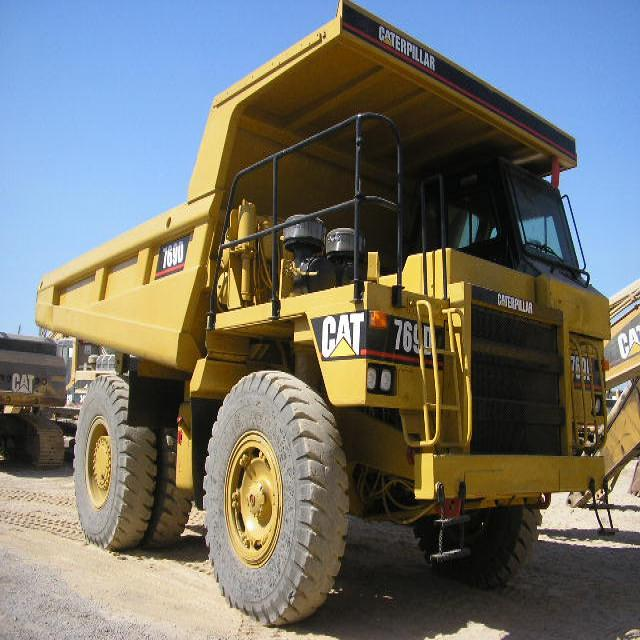dump_truck: (23, 4, 610, 616)
